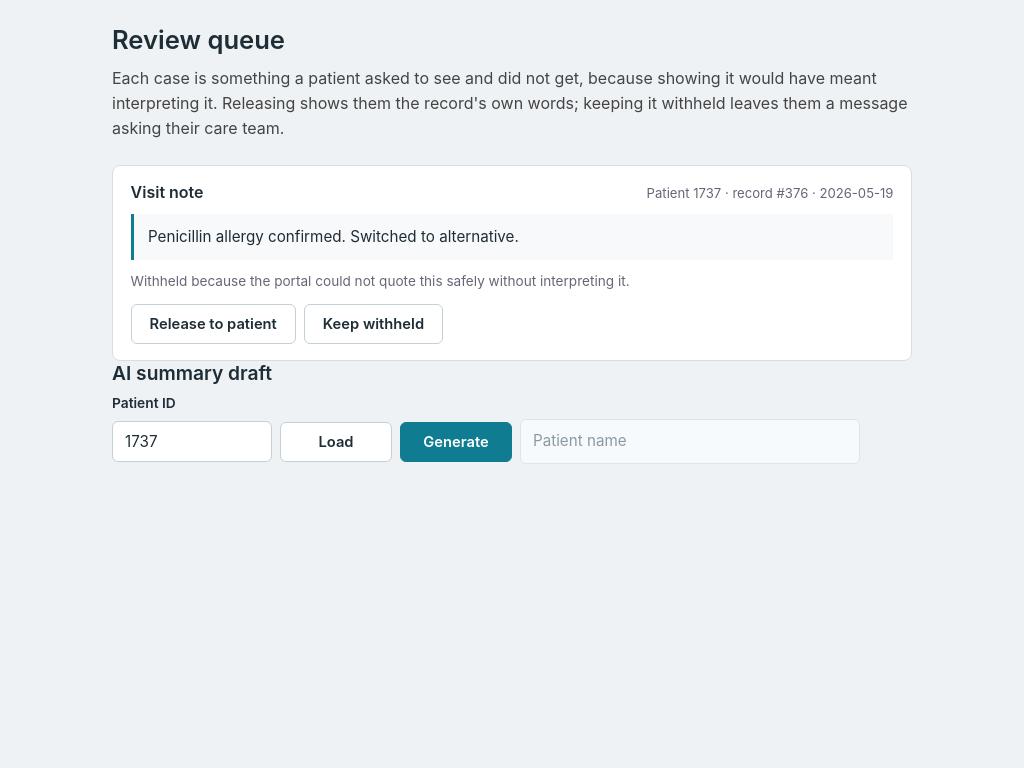
deciding a case › does not act on the first click — the decision is confirmed
Click the button "Release to patient".
click(213, 324)  # box left=131, top=304, right=296, bottom=344
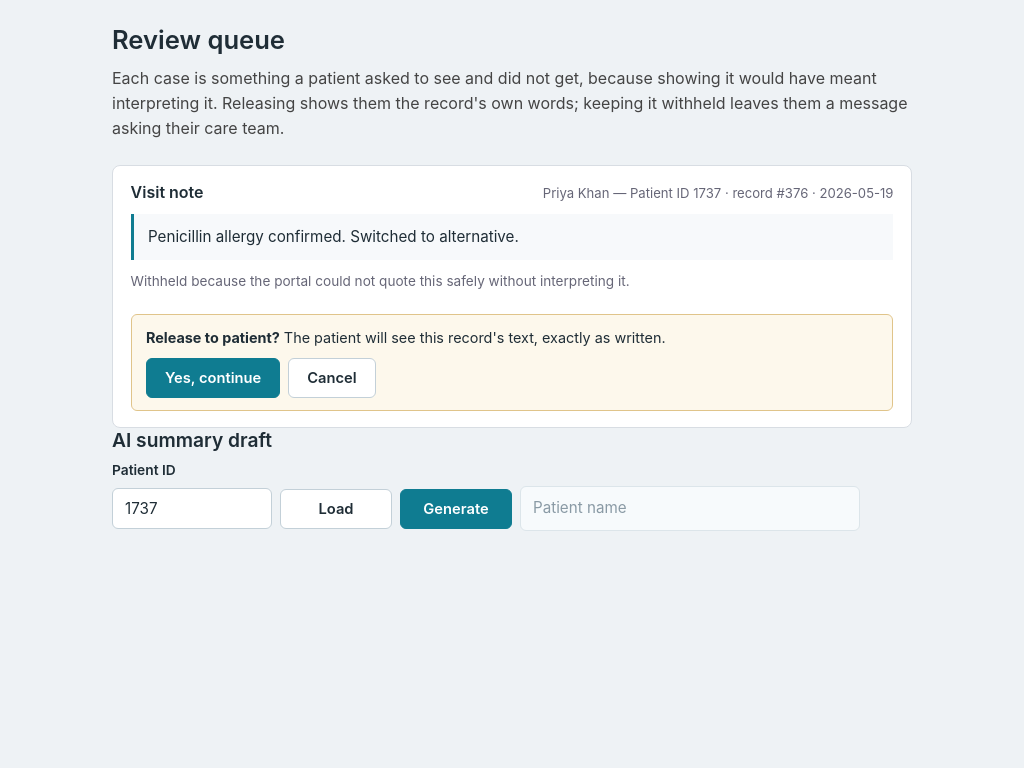
Check: the dialog is shown, box left=131, top=314, right=893, bottom=411
